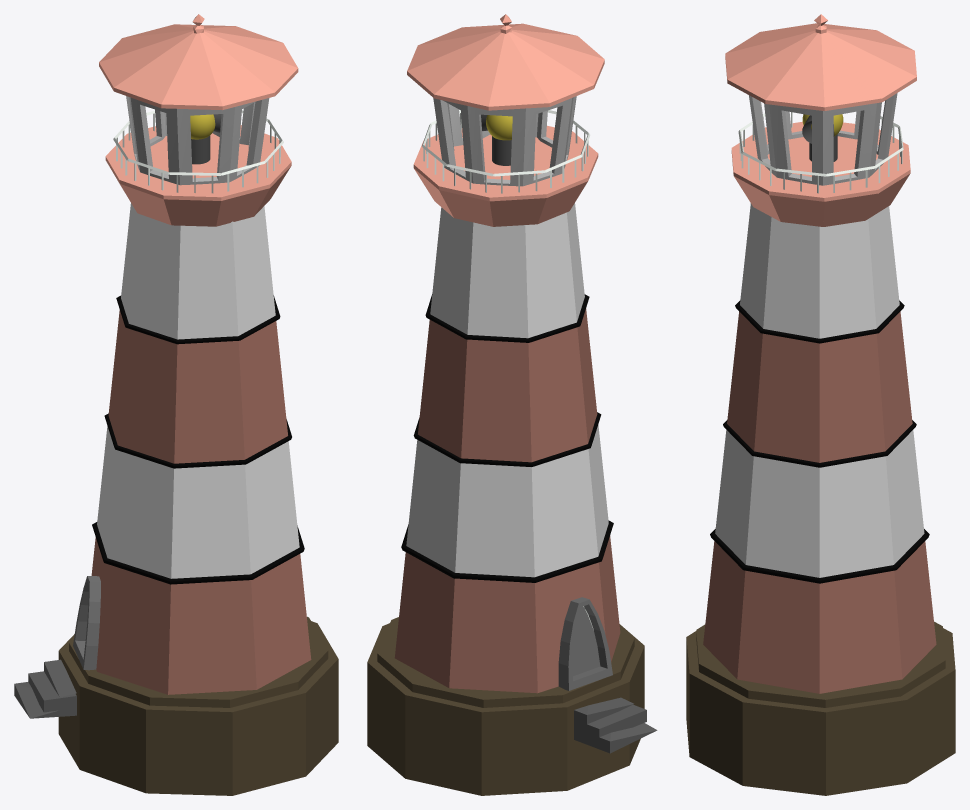
File: light house.fbx
3 views of the same model, side by side, from view 1: azimuth 30°, elevation 25°; view 2: azimuth 150°, elevation 25°; view 3: azimuth 270°, elevation 25° (orthographic).
Visible parts, largest first — view 1: pCylinder9, polySurface1, Sphere_1, Cylinder_2, pCylinder3, polySurface9, polySurface3, polySurface7, Door, Array_1, pCylinder6, pCylinder7 (+5 smaller); view 2: pCylinder9, polySurface1, Sphere_1, Cylinder_2, pCylinder3, Door, polySurface9, polySurface3, polySurface7, Array_1, pCylinder6, polySurface4 (+5 smaller); view 3: pCylinder9, polySurface1, Sphere_1, Cylinder_2, pCylinder3, polySurface9, polySurface7, polySurface3, pCylinder6, Array_1, pCylinder7, pCylinder8.
Boxes of the visible parts, x1,y1,x2,y2 form: pCylinder9: (91,203,311,694); polySurface1: (58,651,338,795); Sphere_1: (99,14,298,110); Cylinder_2: (105,125,291,226); pCylinder3: (126,96,269,185); polySurface9: (69,616,328,699); polySurface3: (69,643,328,707); polySurface7: (59,621,338,712); Door: (73,576,100,670); Array_1: (113,110,283,193); pCylinder6: (92,522,304,584); pCylinder7: (104,413,291,468); pCylinder9: (394,203,620,693); polySurface1: (367,646,644,795); Sphere_1: (407,14,604,110); Cylinder_2: (413,125,598,226); pCylinder3: (433,96,576,186); Door: (558,597,612,690); polySurface9: (377,617,634,699); polySurface3: (377,639,634,707); polySurface7: (367,623,644,712); Array_1: (422,110,590,193); pCylinder6: (401,520,613,582); polySurface4: (574,704,646,740); pCylinder9: (703,203,936,693); polySurface1: (686,637,955,795); Sphere_1: (725,14,916,110); Cylinder_2: (731,121,910,226); pCylinder3: (749,93,897,185); polySurface9: (696,621,945,699); polySurface7: (686,628,955,712); polySurface3: (696,633,945,707); pCylinder6: (710,529,929,583); Array_1: (738,112,903,193); pCylinder7: (723,420,916,467); pCylinder8: (735,300,904,343).
Bounding box in the file's own units: 22.74 × 55.92 × 18.86.
